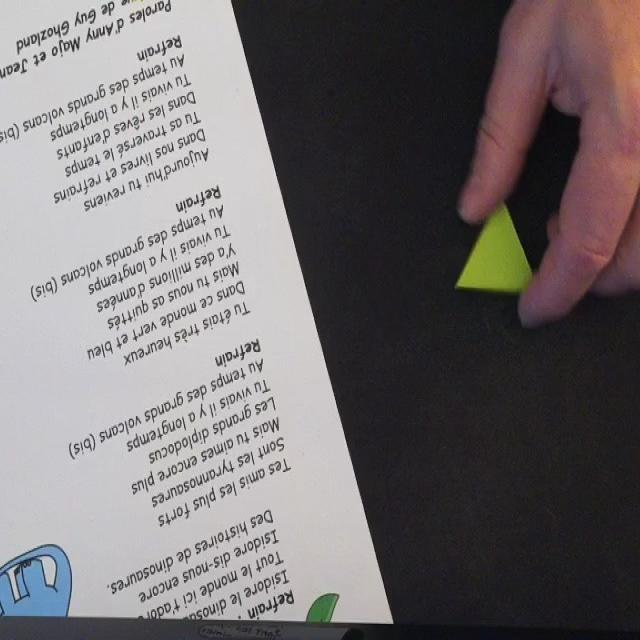triangle: (452, 201, 542, 303)
